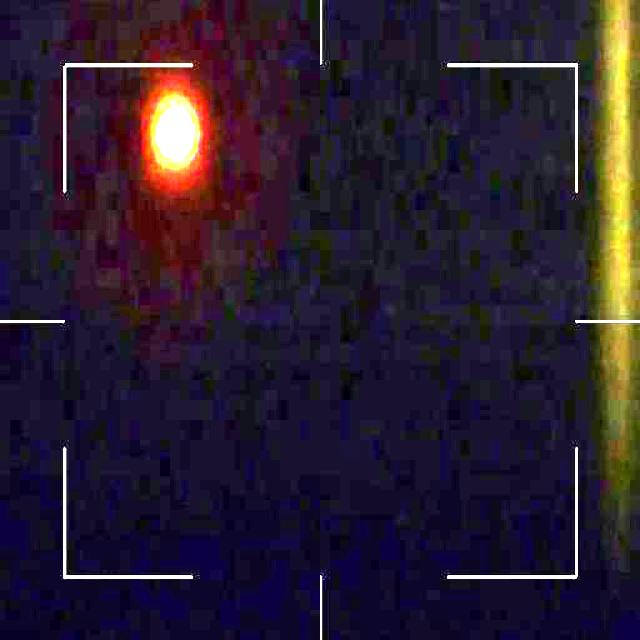bird: (150, 99, 202, 171)
